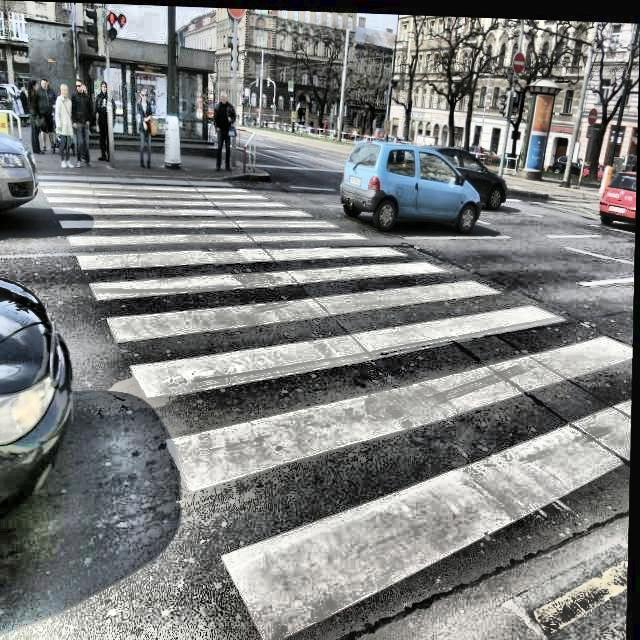faixa de pedestre: (34, 162, 630, 634)
